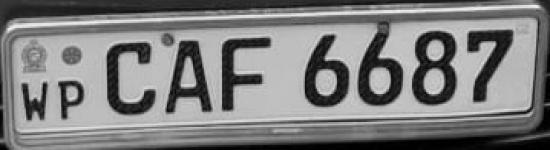6: (294, 28, 355, 114), (356, 26, 405, 112)
7: (461, 21, 519, 107)
8: (406, 21, 461, 110)
A: (161, 33, 214, 119)
C: (100, 35, 159, 119)
F: (214, 32, 279, 117)
P: (55, 74, 88, 125)
W: (18, 80, 54, 126)
